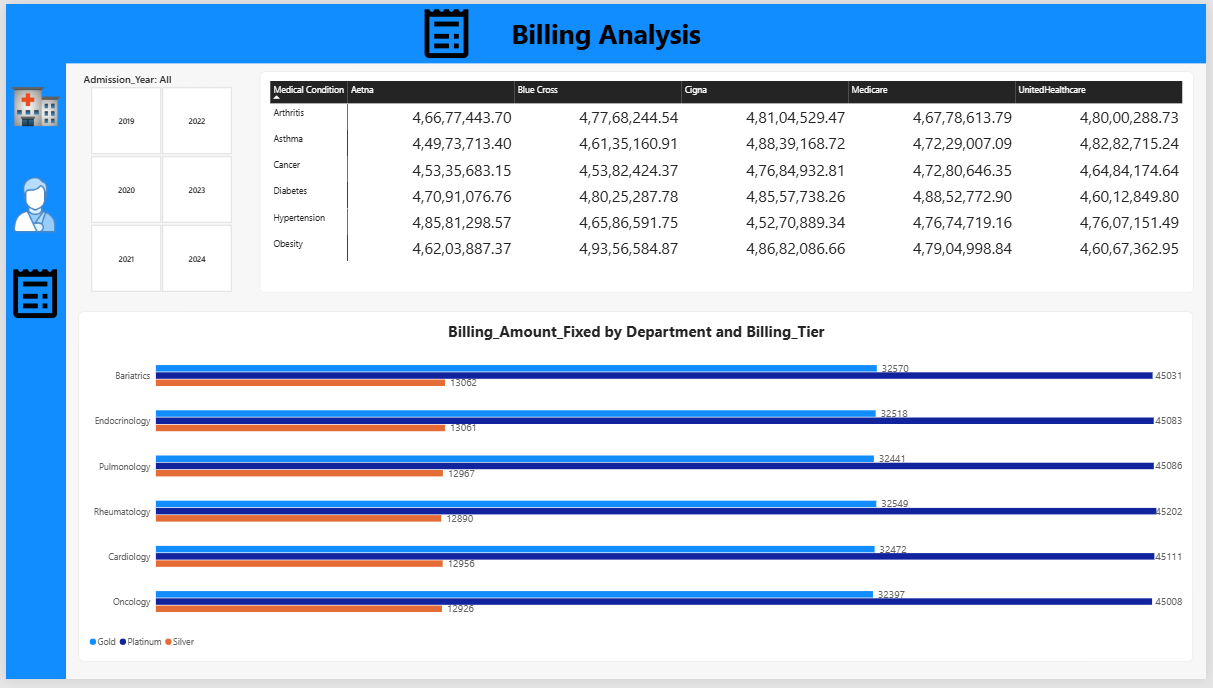

What the dashboard file says about the page in this screenshot:
{"tool":"powerbi","page":{"name":"Billing Analysis","canvas":[1920,1080],"ordinal":2},"visuals":[{"type":"shape","box":[0,18,96,1062],"z":0},{"type":"shape","box":[0,0,1920,95],"z":1000},{"type":"image","box":[0.6,95,93.3,130],"z":2000},{"type":"image","box":[0.6,255,93.3,130],"z":3000},{"type":"image","box":[0.6,415,93.3,95],"z":4000},{"type":"image","box":[658.3,0,93.3,95],"z":5000},{"type":"textbox","box":[570,18.3,780,75],"z":6000},{"type":"clusteredBarChart","title":"Billing_Amount_Fixed by Department and Billing_Tier","fields":{"Category":["Department.Department"],"Series":["Department.Billing_Tier"],"Y":["Avg(Department.Billing_Amount_Fixed)"]},"box":[116.9,491.1,1783.4,559.6],"z":7000},{"type":"pivotTable","fields":{"Columns":["Department.Insurance Provider"],"Rows":["Department.Medical Condition"],"Values":["Sum(Department.Billing_Amount_Fixed)"]},"box":[406,108,1494,354],"z":8000},{"type":"slicer","fields":{"Values":["Department.Admission_Year"]},"box":[116,108,264,354],"z":9000}]}

Visuals, with their boxes on the page's 1920x1080 design canvas (x1, y1, x2, y2). These are canvas units, not pixel positions in the 1213x688 screenshot, which may show the page scaled, cropped or inside an application window:
shape: bbox=[0, 18, 96, 1080]
shape: bbox=[0, 0, 1920, 95]
image: bbox=[1, 95, 94, 225]
image: bbox=[1, 255, 94, 385]
image: bbox=[1, 415, 94, 510]
image: bbox=[658, 0, 752, 95]
textbox: bbox=[570, 18, 1350, 93]
"Billing_Amount_Fixed by Department and Billing_Tier" clusteredBarChart: bbox=[117, 491, 1900, 1051]
pivotTable - Department.Insurance Provider x Department.Medical Condition: bbox=[406, 108, 1900, 462]
slicer - Department.Admission_Year: bbox=[116, 108, 380, 462]
